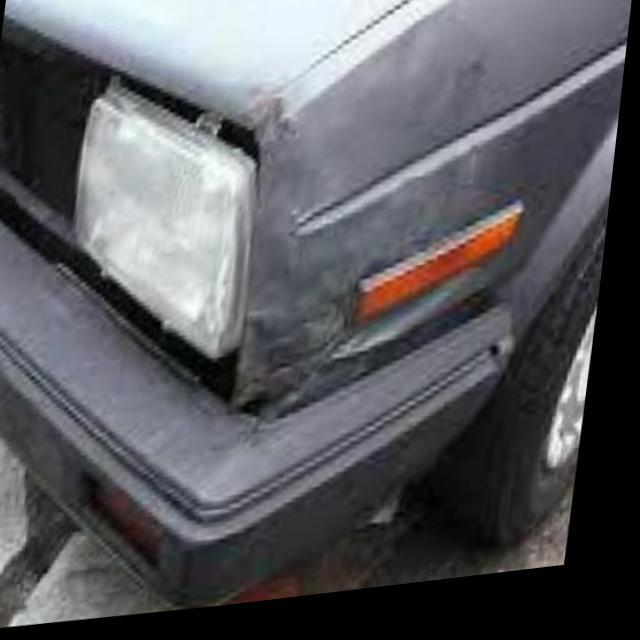dent: (226, 39, 515, 425)
